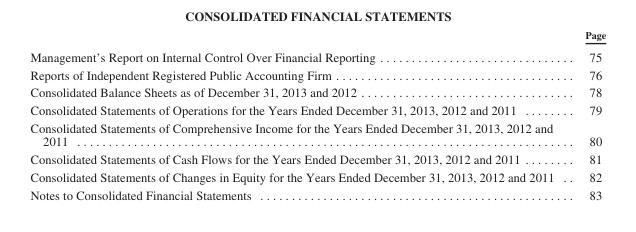table: (29, 28, 605, 201)
table column: (29, 28, 569, 201), (569, 28, 605, 201)
table column header: (29, 28, 605, 44)
table row: (29, 118, 605, 150), (29, 44, 605, 65), (29, 65, 605, 83), (29, 100, 605, 118), (29, 167, 605, 185), (29, 83, 605, 100), (29, 150, 605, 167), (29, 28, 605, 44), (29, 185, 605, 201)
